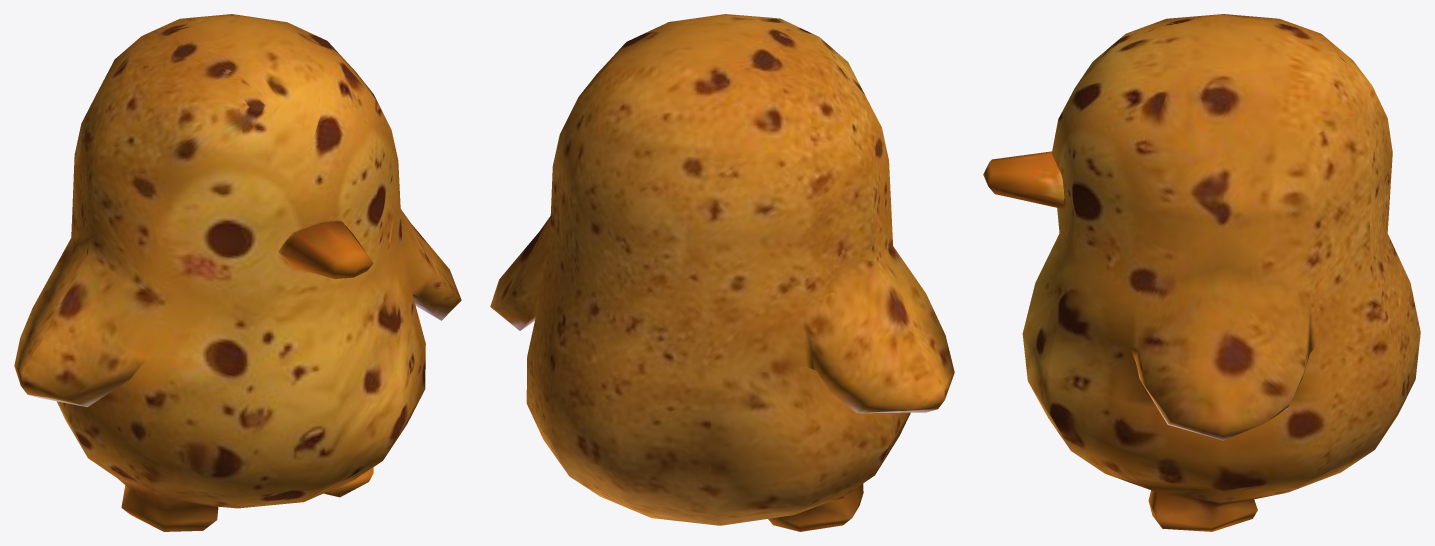
The model's file is penguin-10-41-cookie-crumb-clay-penguin.gltf.
The picture shows the model from 3 angles, left to right: view 1: azimuth 30°, elevation 25°; view 2: azimuth 150°, elevation 25°; view 3: azimuth 270°, elevation 25°; orthographic projection. The views are drawn at different scales.
Visible parts, largest first — view 1: penguin-10-41-cookie-crumb-clay-penguin; view 2: penguin-10-41-cookie-crumb-clay-penguin; view 3: penguin-10-41-cookie-crumb-clay-penguin.
Boxes of the visible parts, <box> form: penguin-10-41-cookie-crumb-clay-penguin: <box>14,14,461,531</box>; penguin-10-41-cookie-crumb-clay-penguin: <box>490,14,954,531</box>; penguin-10-41-cookie-crumb-clay-penguin: <box>983,14,1420,531</box>.
Size of the model in its own units: 0.2 by 0.201 by 0.176.
Materials: 1 (1 with a texture image).
